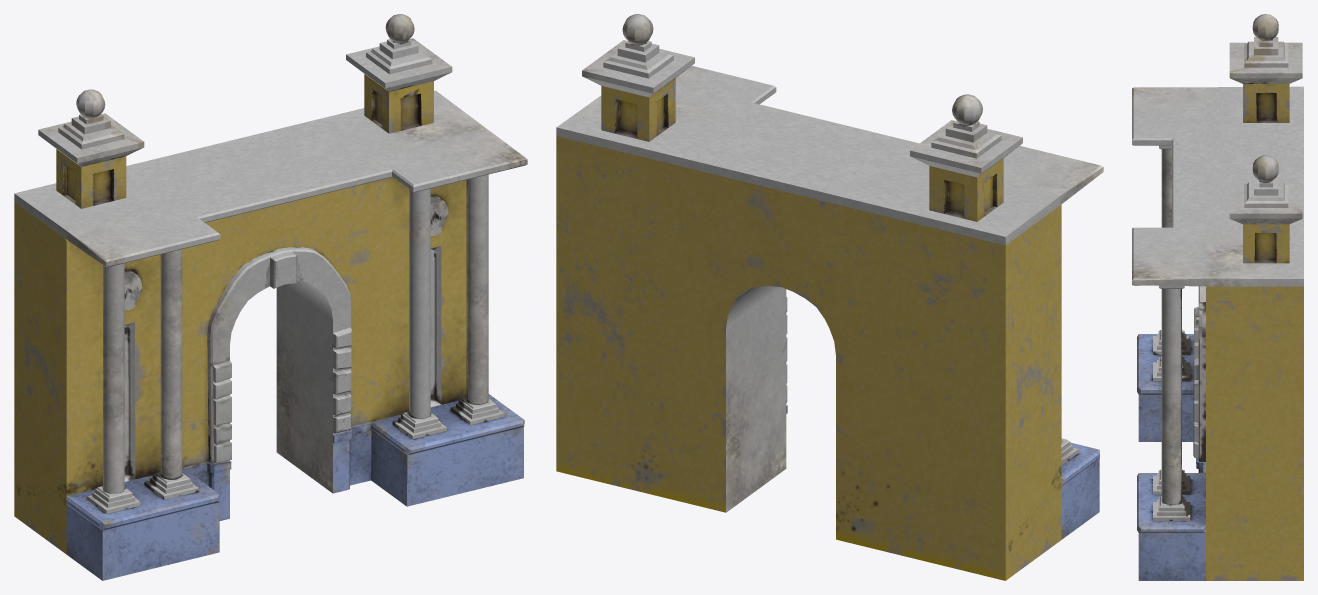
The picture shows the model from 3 angles, left to right: view 1: azimuth 30°, elevation 25°; view 2: azimuth 150°, elevation 25°; view 3: azimuth 270°, elevation 25°; orthographic projection. The views are drawn at different scales.
Parts seen in each view (by area): view 1: Arch_HI; view 2: Arch_HI; view 3: Arch_HI.
Part boxes in pixels (<box>): Arch_HI: <box>14,14,527,580</box>; Arch_HI: <box>556,14,1103,580</box>; Arch_HI: <box>1132,14,1303,580</box>.
Bounding box in the file's own units: 657 × 631 × 246.
